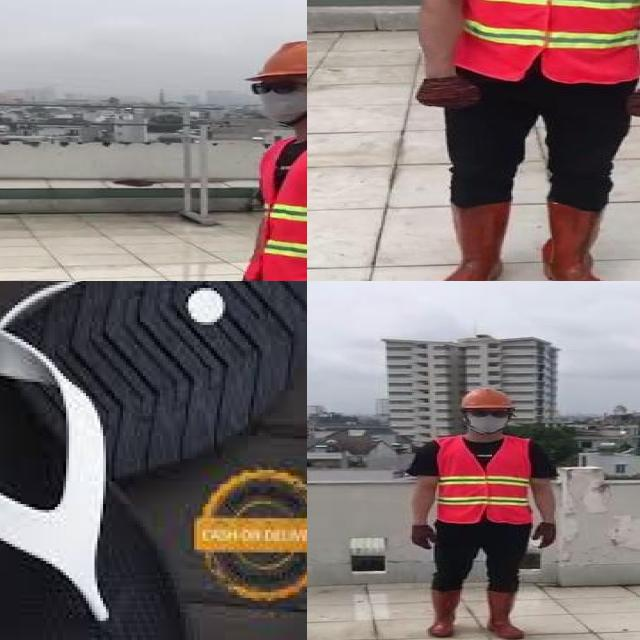Sandals: (0, 281, 307, 640)
boots: (537, 198, 612, 281), (433, 204, 504, 281), (480, 589, 524, 639), (426, 589, 460, 637)
face_mask: (251, 77, 307, 124), (464, 406, 510, 432)
glasses: (241, 76, 307, 98), (464, 406, 514, 419)
hand_glove: (419, 76, 481, 108), (406, 524, 441, 551), (531, 523, 558, 548), (623, 87, 640, 118)
head_helmet: (247, 40, 307, 85), (454, 388, 518, 409)
person: (387, 0, 640, 281), (399, 384, 573, 640), (164, 32, 307, 281)
vest: (449, 0, 640, 83), (248, 129, 307, 281), (435, 435, 535, 524)
